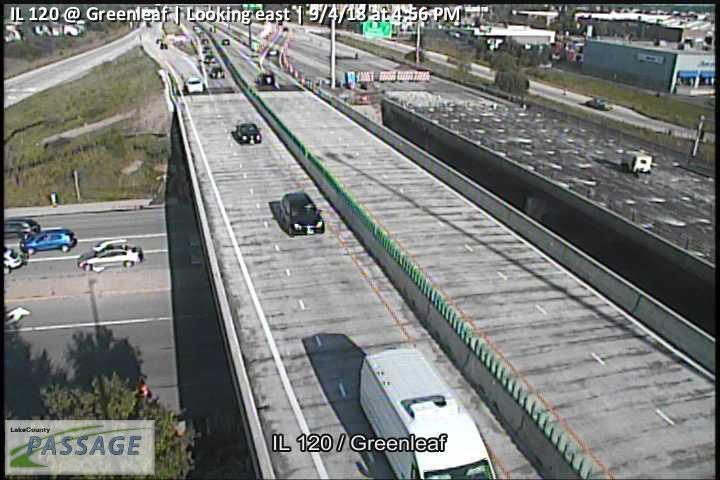SUV: (360, 347, 496, 480), (76, 239, 143, 270), (281, 192, 324, 235), (18, 227, 75, 252), (4, 218, 41, 244), (183, 76, 203, 92)
Sedan: (236, 122, 262, 144)
Truck: (621, 148, 652, 175)
